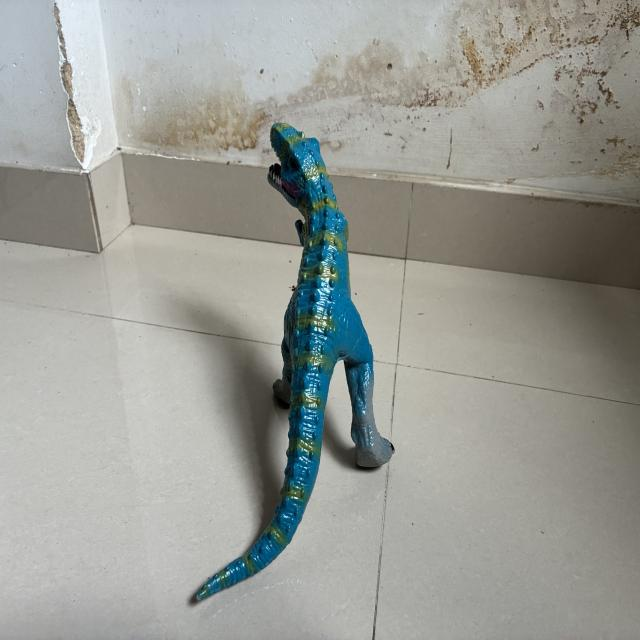dinosaur: (190, 123, 394, 605)
